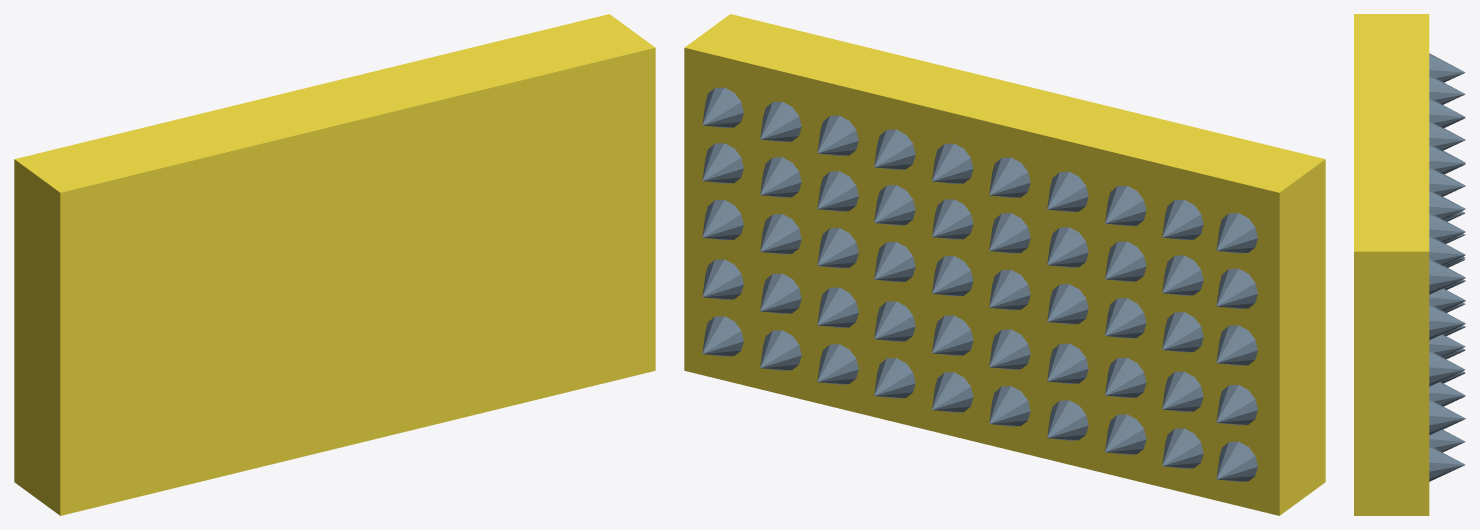
3 views of the same model, side by side, from view 1: azimuth 30°, elevation 25°; view 2: azimuth 150°, elevation 25°; view 3: azimuth 270°, elevation 25° (orthographic). The views are drawn at different scales.
Visible parts, largest first — view 1: koluska; view 2: koluska, koluska_1; view 3: koluska, koluska_1.
Boxes of the visible parts, left/top/right/bottom form: koluska: left=14, top=14, right=655, bottom=515; koluska: left=684, top=14, right=1325, bottom=515; koluska_1: left=702, top=87, right=1257, bottom=481; koluska: left=1354, top=14, right=1429, bottom=515; koluska_1: left=1429, top=53, right=1465, bottom=481.
Size of the model in its own units: 3.61 by 1.87 by 0.7168.
